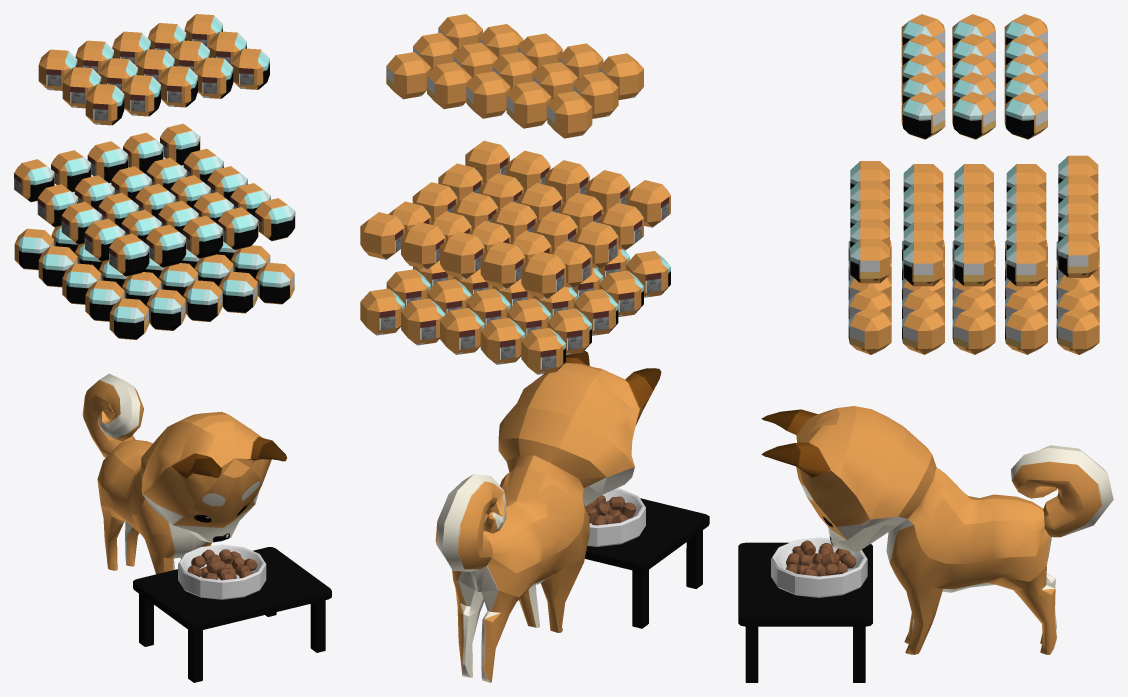
File: fullBowl_frame23.obj
3 renders of one model, left to right at view 1: azimuth 30°, elevation 25°; view 2: azimuth 150°, elevation 25°; view 3: azimuth 270°, elevation 25°, orthographic. The views are drawn at different scales.
Visible parts, largest first — view 1: newRigging1:BodzL1, Tisch:Tisch:pCube1, FressnapfFull:bulletRigidSetSolved1, FressnapfFull:pCube45, FressnapfFull:pCube46, FressnapfFull:pCube57, FressnapfFull:pCube48, FressnapfFull:pCube50, FressnapfFull:pCube43, FressnapfFull:pCube49, FressnapfFull:pCube42, FressnapfFull:pCube36 (+44 smaller); view 2: newRigging1:BodzL1, Tisch:Tisch:pCube1, FressnapfFull:bulletRigidSetSolved1, FressnapfFull:pCube39, FressnapfFull:pCube51, FressnapfFull:pCube64, FressnapfFull:pCube54, FressnapfFull:pCube37, FressnapfFull:pCube61, FressnapfFull:pCube55, FressnapfFull:pCube53, FressnapfFull:pCube41 (+45 smaller); view 3: newRigging1:BodzL1, Tisch:Tisch:pCube1, FressnapfFull:bulletRigidSetSolved1, FressnapfFull:pCube36, FressnapfFull:pCube4, FressnapfFull:pCube41, FressnapfFull:pCube50, FressnapfFull:pCube55, FressnapfFull:pCube31, FressnapfFull:pCube20, FressnapfFull:pCube10, FressnapfFull:pCube15 (+42 smaller).
Boxes of the visible parts, bbox=[...] form: newRigging1:BodzL1: bbox=[82, 373, 286, 574]; Tisch:Tisch:pCube1: bbox=[133, 547, 331, 682]; FressnapfFull:bulletRigidSetSolved1: bbox=[178, 544, 266, 599]; FressnapfFull:pCube45: bbox=[85, 84, 124, 125]; FressnapfFull:pCube46: bbox=[109, 298, 148, 339]; FressnapfFull:pCube57: bbox=[109, 233, 149, 276]; FressnapfFull:pCube48: bbox=[183, 280, 222, 321]; FressnapfFull:pCube50: bbox=[255, 262, 294, 304]; FressnapfFull:pCube43: bbox=[159, 66, 197, 107]; FressnapfFull:pCube49: bbox=[146, 289, 185, 330]; FressnapfFull:pCube42: bbox=[122, 75, 160, 116]; FressnapfFull:pCube36: bbox=[231, 48, 269, 89]; newRigging1:BodzL1: bbox=[435, 351, 661, 682]; Tisch:Tisch:pCube1: bbox=[585, 498, 709, 628]; FressnapfFull:bulletRigidSetSolved1: bbox=[587, 488, 645, 546]; FressnapfFull:pCube39: bbox=[547, 91, 592, 138]; FressnapfFull:pCube51: bbox=[521, 327, 565, 374]; FressnapfFull:pCube64: bbox=[521, 251, 565, 298]; FressnapfFull:pCube54: bbox=[480, 318, 525, 364]; FressnapfFull:pCube37: bbox=[506, 81, 551, 128]; FressnapfFull:pCube61: bbox=[480, 241, 525, 289]; FressnapfFull:pCube55: bbox=[360, 288, 404, 335]; FressnapfFull:pCube53: bbox=[440, 308, 484, 354]; FressnapfFull:pCube41: bbox=[386, 52, 430, 99]; newRigging1:BodzL1: bbox=[761, 406, 1113, 654]; Tisch:Tisch:pCube1: bbox=[738, 542, 872, 682]; FressnapfFull:bulletRigidSetSolved1: bbox=[771, 537, 867, 597]; FressnapfFull:pCube36: bbox=[901, 92, 945, 139]; FressnapfFull:pCube4: bbox=[952, 307, 995, 354]; FressnapfFull:pCube41: bbox=[1004, 92, 1047, 139]; FressnapfFull:pCube50: bbox=[848, 307, 891, 354]; FressnapfFull:pCube55: bbox=[1056, 307, 1099, 354]; FressnapfFull:pCube31: bbox=[952, 92, 995, 139]; FressnapfFull:pCube20: bbox=[1006, 242, 1046, 286]; FressnapfFull:pCube10: bbox=[902, 307, 944, 354]; FressnapfFull:pCube15: bbox=[1005, 307, 1047, 354].
Bounding box in the file's own units: 5.73 × 16.34 × 9.44.
4 materials, 3 textured.
